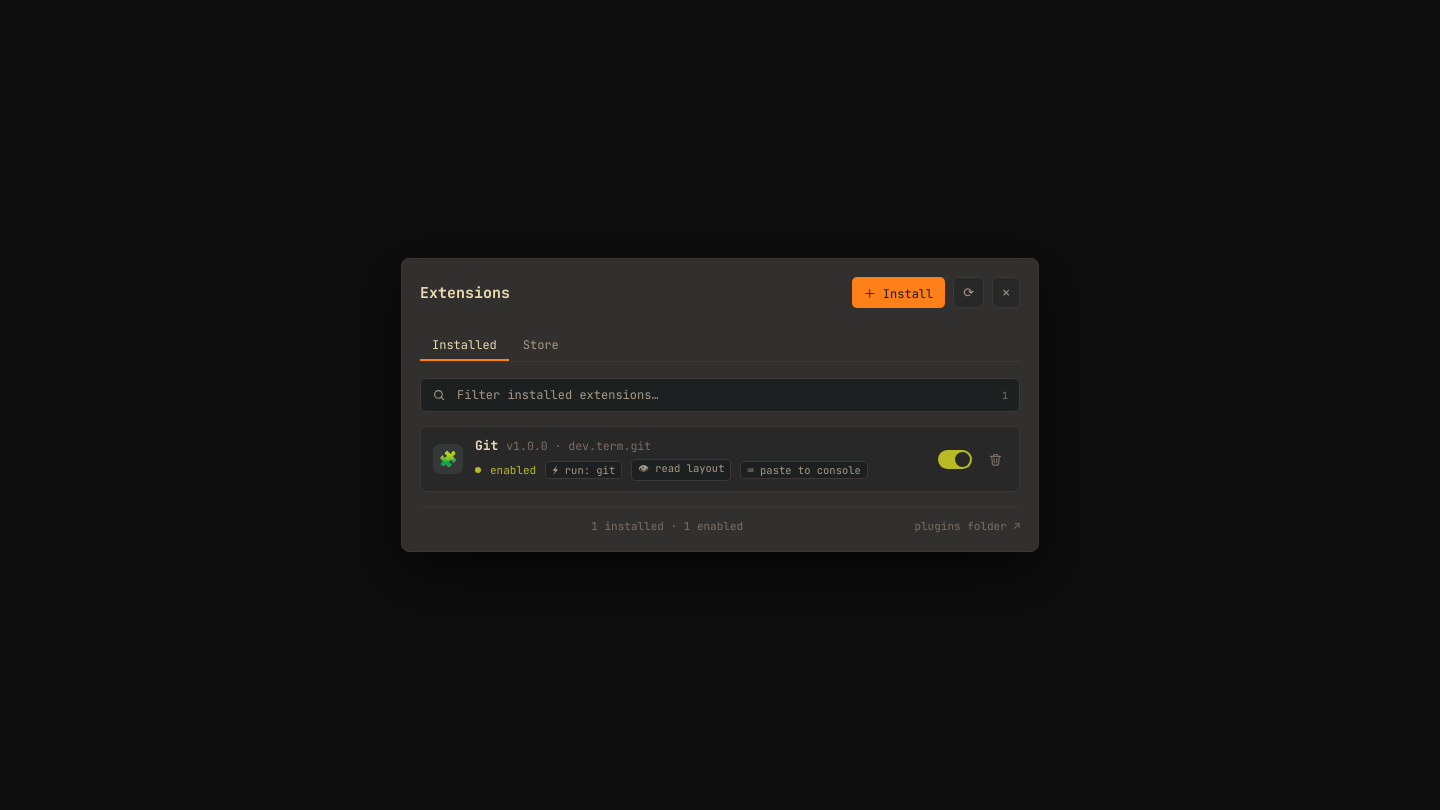
Test: ExtensionsScreen › no matches → No matching placeholder
Type "zzz" into the field named "filter extensions" at (724, 395), box 455,386 -> 993,404
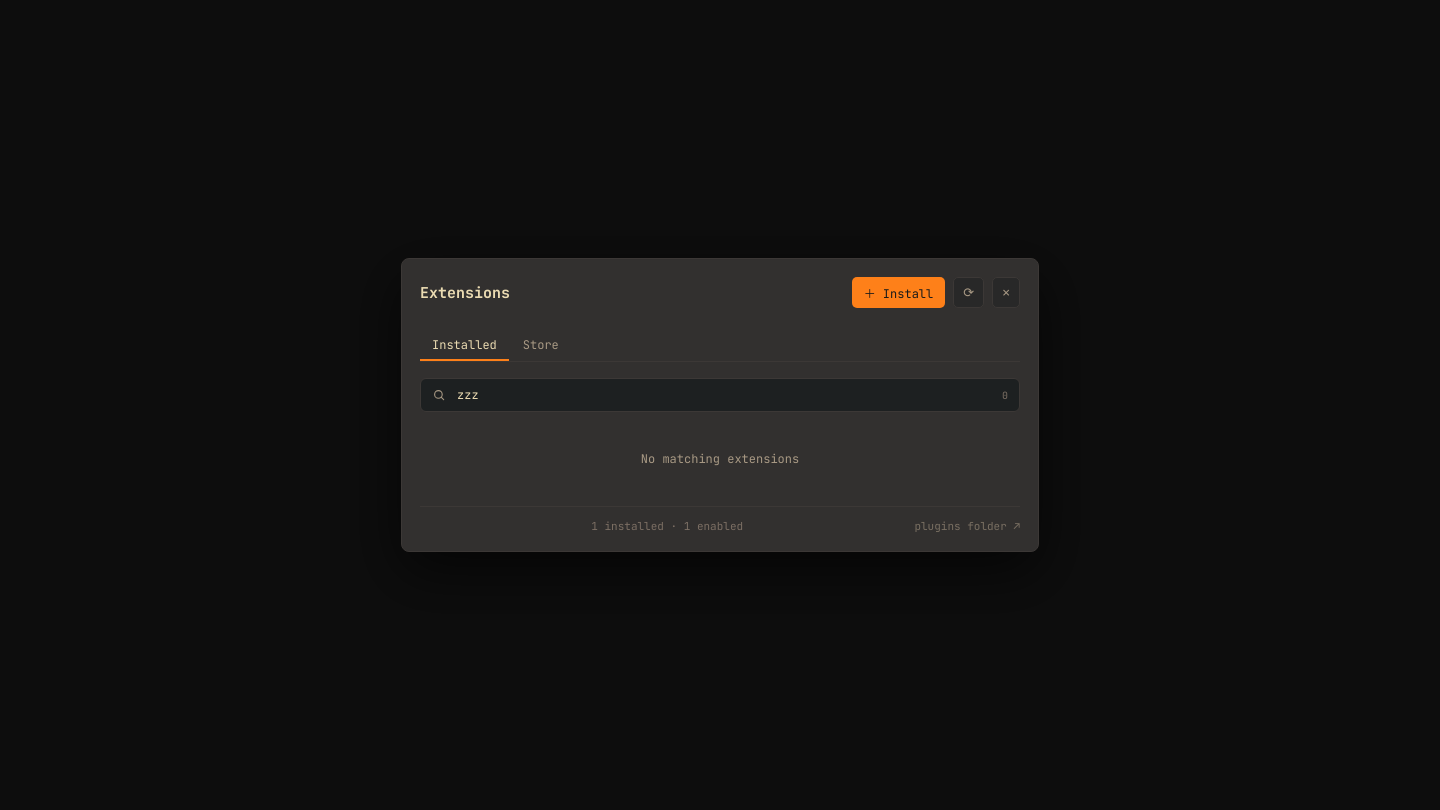
Check: the text "No matching extensions" is shown, box 641,451 -> 799,467
